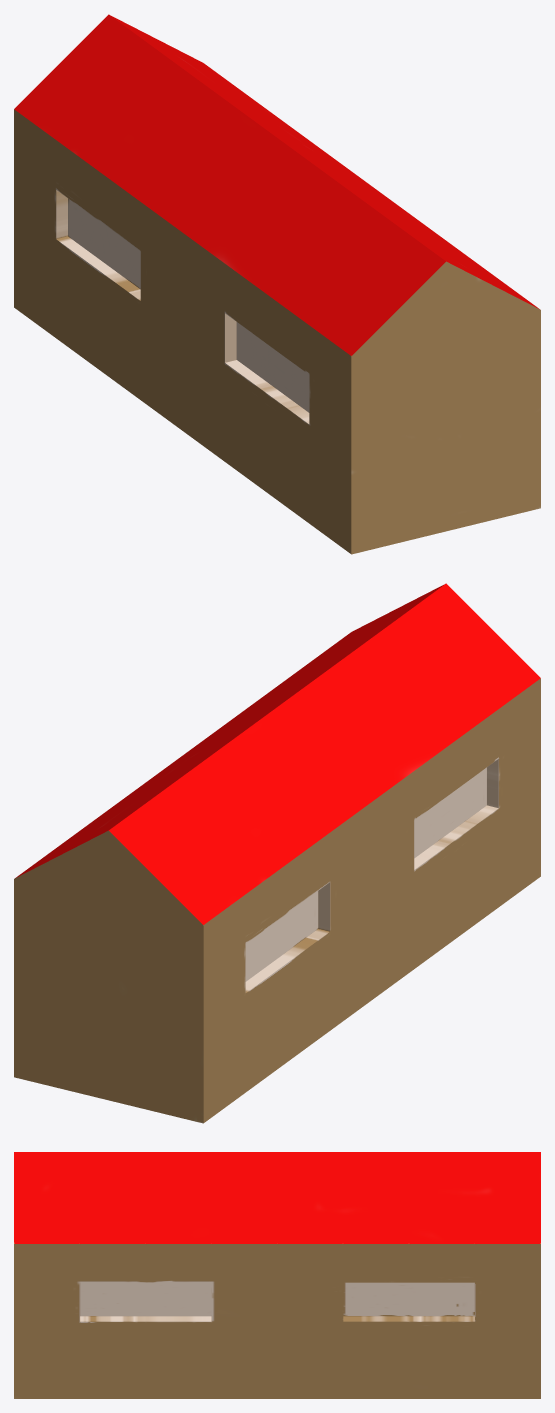
The model's file is Edificio.fbx.
3 views of the same model, one above another, from view 1: azimuth 30°, elevation 25°; view 2: azimuth 150°, elevation 25°; view 3: azimuth 270°, elevation 25° (orthographic). The views are drawn at different scales.
Parts seen in each view (by area): view 1: Cube; view 2: Cube; view 3: Cube.
Part boxes in pixels (left/top/right/bottom): Cube: left=14, top=14, right=540, bottom=554; Cube: left=14, top=583, right=540, bottom=1123; Cube: left=14, top=1152, right=540, bottom=1398.
Bounding box in the file's own units: 200 × 272 × 617.
Materials: 1 (1 with a texture image).
